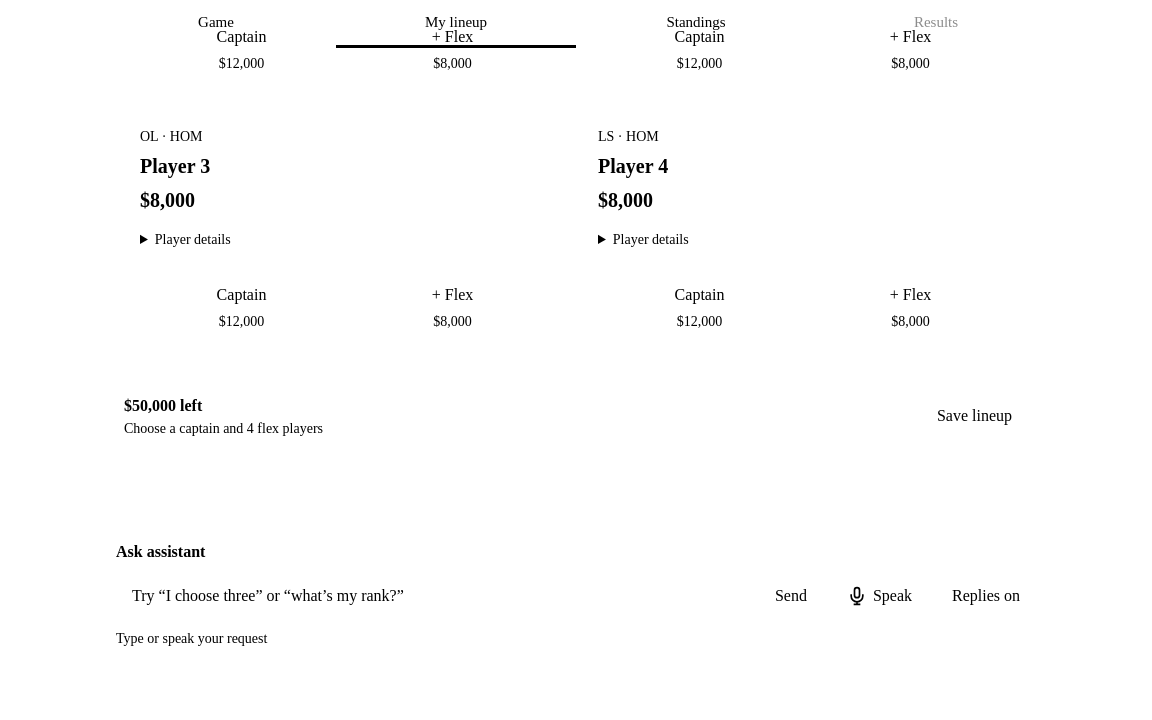
Test case: football rooms › leaves typed voice commands available when speech recognition is unsupported
The width and height of the screenshot is (1152, 720).
(page scrolled)
Type "auto lineup" into the field labelled "Ask assistant".
click(433, 596); type("auto lineup")  # box [116,572,751,620]
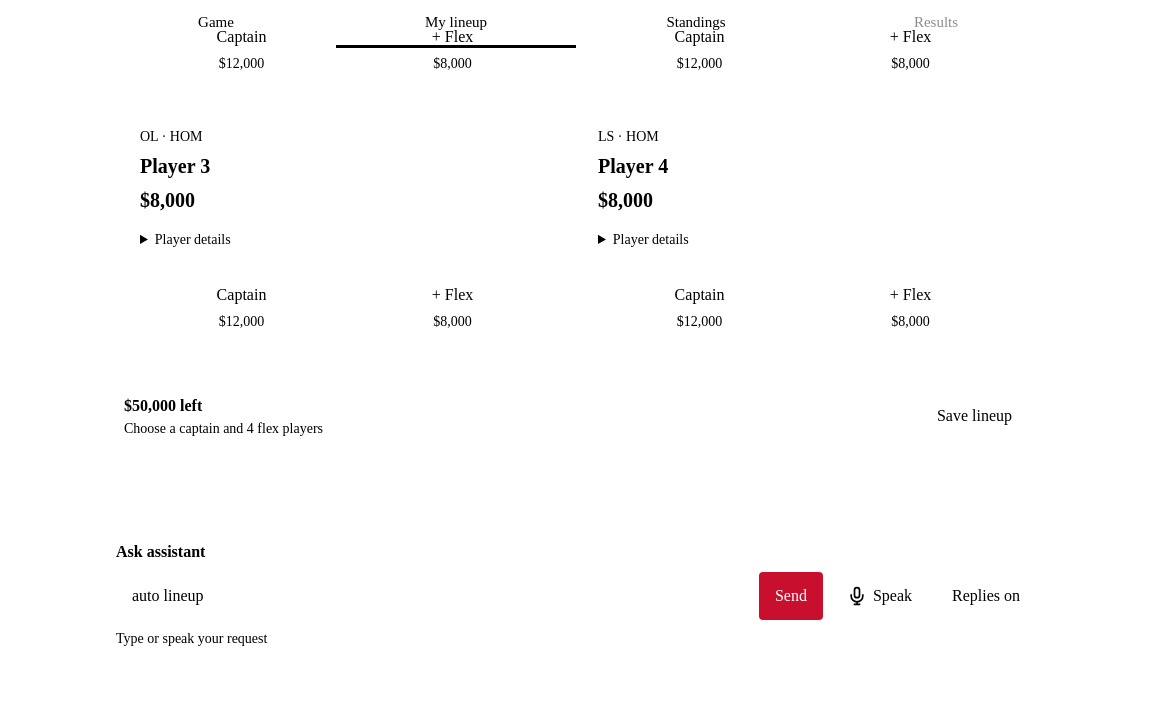
Click the button "Send".
click(791, 596)  # box [759,572,823,620]
(page scrolled)
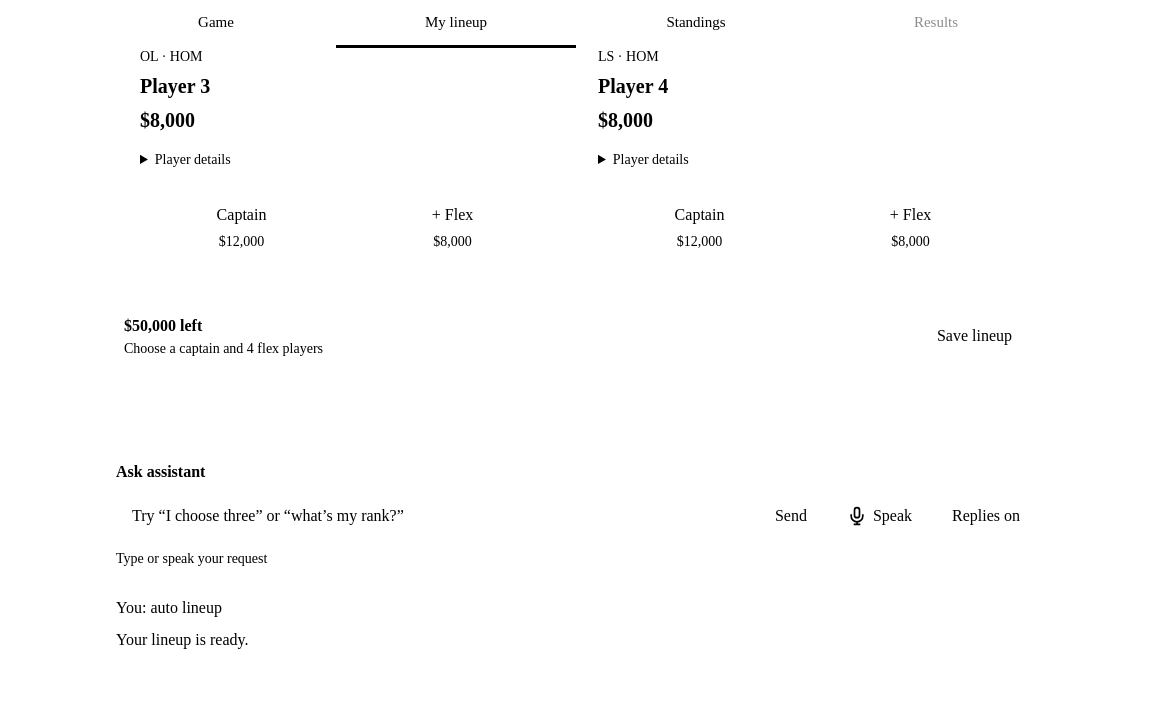
Check: the text "Your lineup is ready." is shown, box [116,631,248,648]
